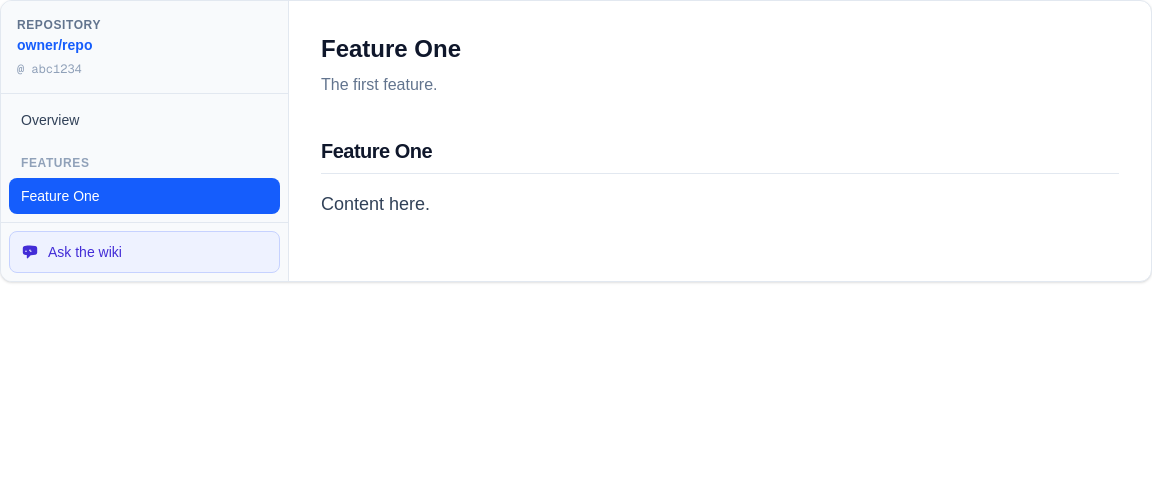
Test: WikiViewer Q&A › accumulates multiple Q&A pairs in the history
Click the button "Ask the wiki".
click(85, 252)  # box [9,231,280,273]
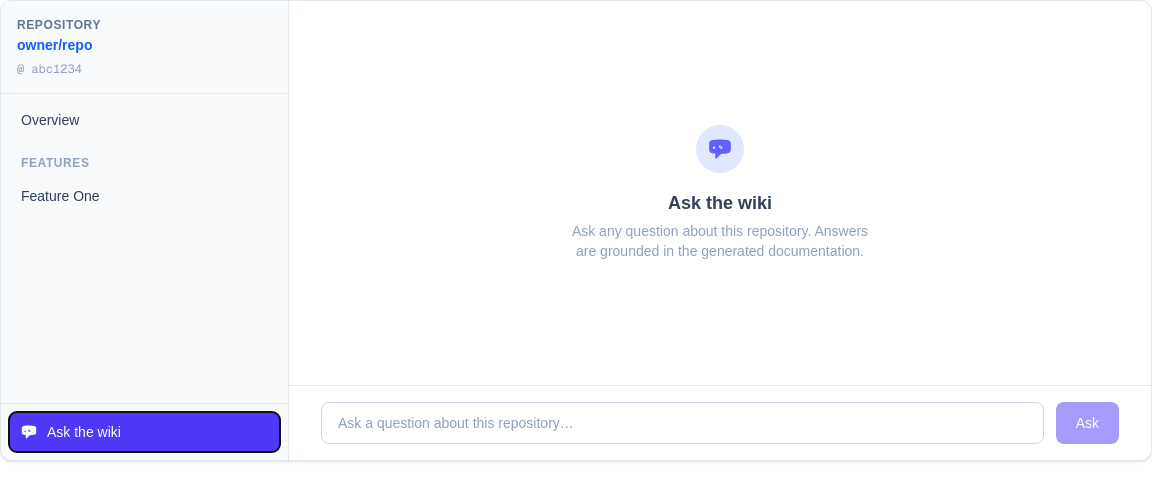
Type "Q1" into the field named "ask a question about this wiki".
click(682, 423); type("Q1")  # box [321,402,1044,444]
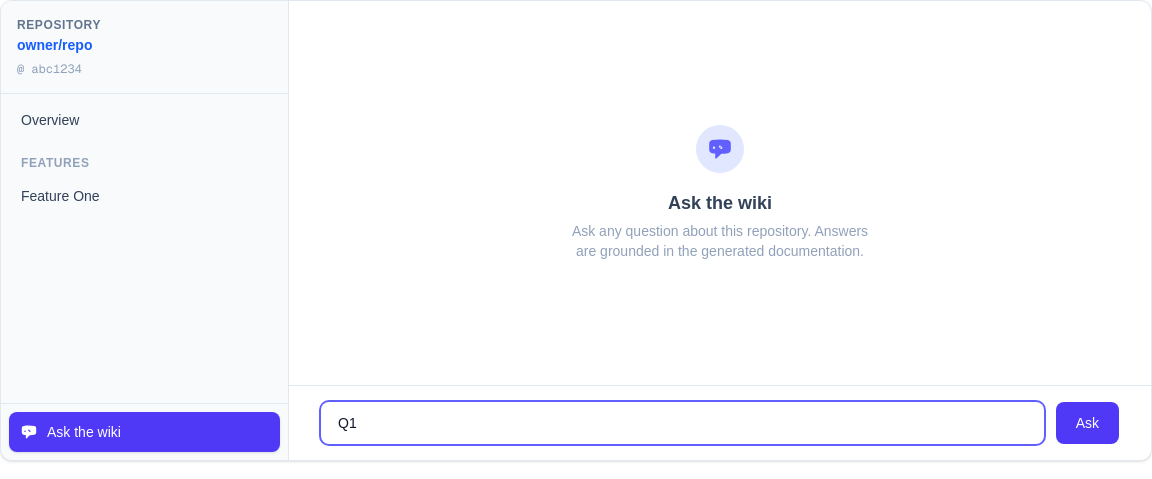
Click the button with aria-label "ask question".
click(1087, 423)  # box [1056,402,1119,444]
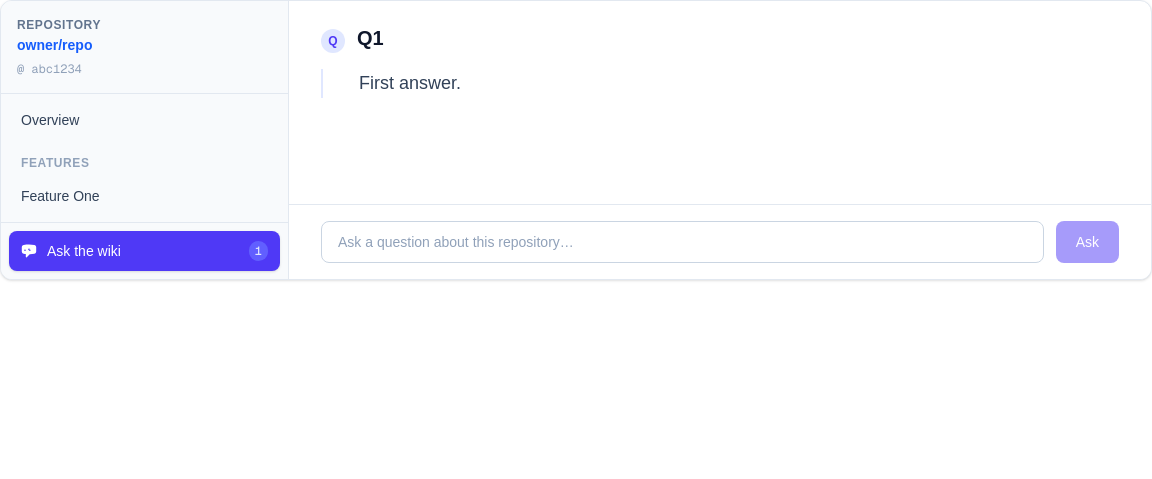
expect the text "First answer." is shown: met, box [359,73,461,93]
Type "Q2" into the field named "ask a question about this wiki".
click(682, 242); type("Q2")  # box [321,221,1044,263]
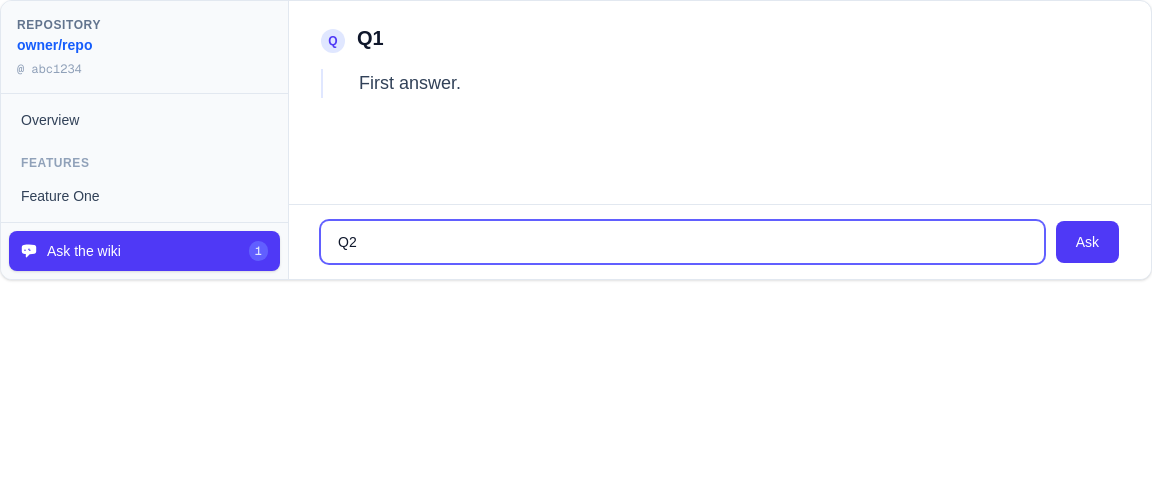
Click the button with aria-label "ask question".
click(1087, 242)  # box [1056,221,1119,263]
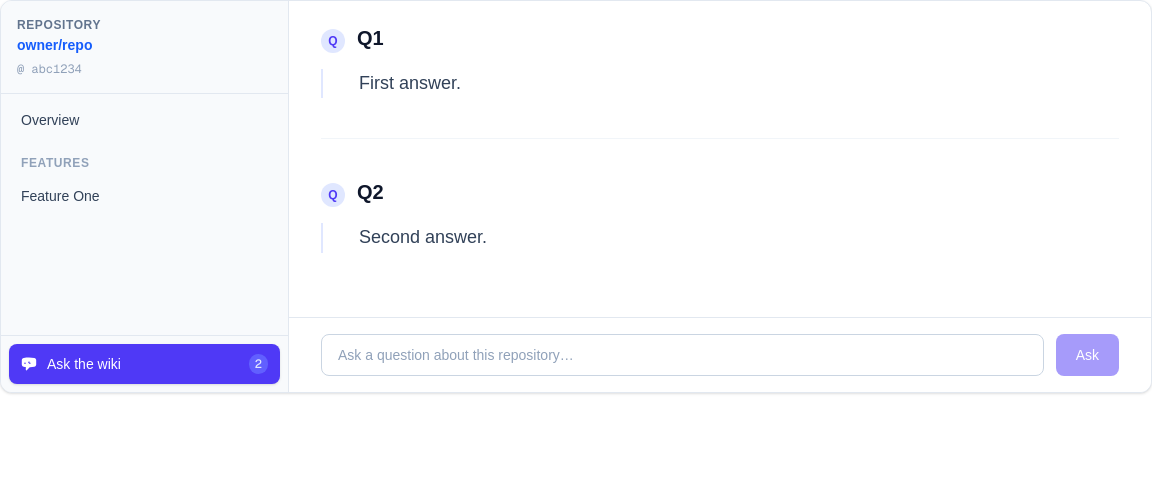
expect the heading "Q1" is shown: met, box [357,25,384,52]
expect the text "Second answer." is shown: met, box [359,227,487,247]
expect the heading "Q2" is shown: met, box [357,179,384,207]
